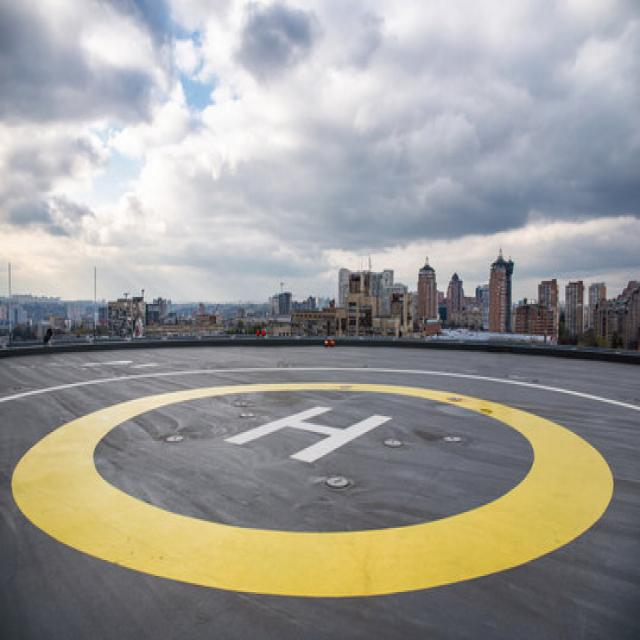helipad: (7, 377, 618, 599)
